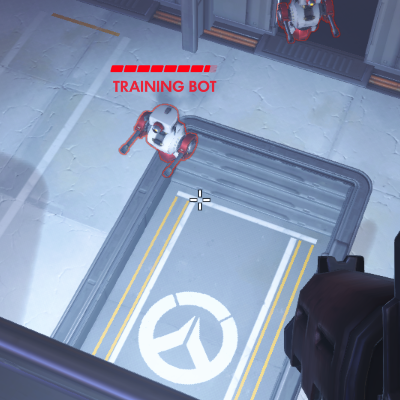hpbar: (110, 64, 218, 73)
